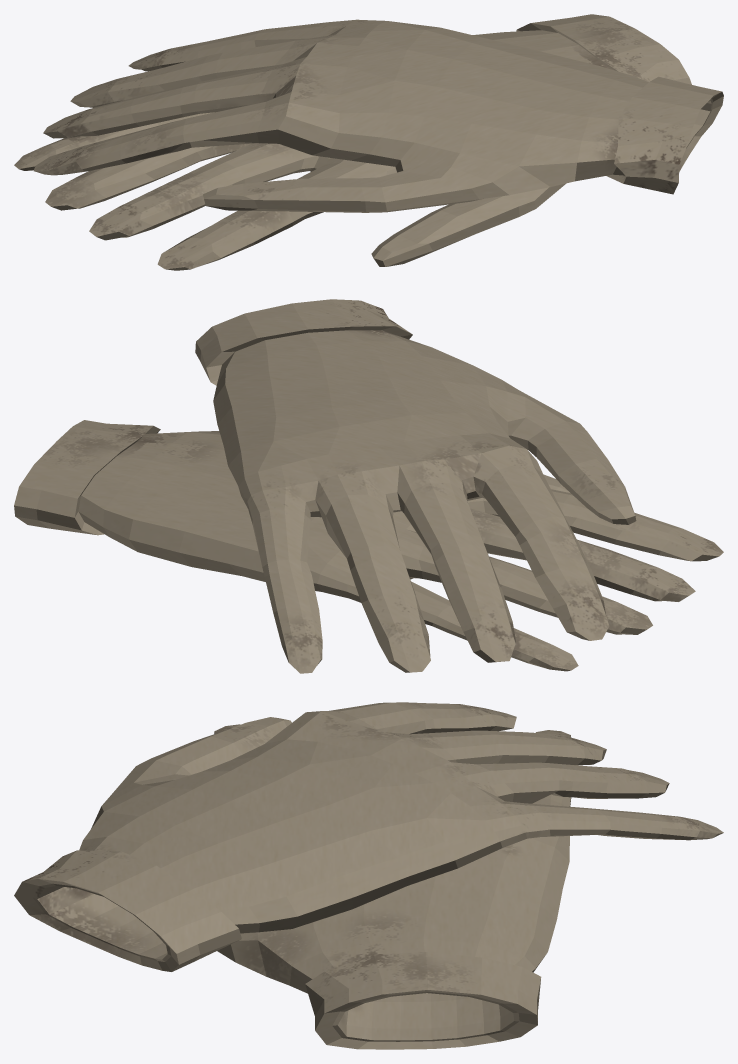
Rendered from fbx_Luvas.fbx.
3 renders of one model, top to bottom at view 1: azimuth 30°, elevation 25°; view 2: azimuth 150°, elevation 25°; view 3: azimuth 270°, elevation 25°, orthographic. The views are drawn at different scales.
Parts seen in each view (by area): view 1: polySurface12; view 2: polySurface12; view 3: polySurface12.
Part boxes in pixels (left/top/right/bottom): polySurface12: left=14, top=14, right=723, bottom=270; polySurface12: left=14, top=299, right=723, bottom=673; polySurface12: left=14, top=702, right=723, bottom=1049.
Bounding box in the file's own units: 22.56 × 4.35 × 20.88.
1 material, 1 textured.
